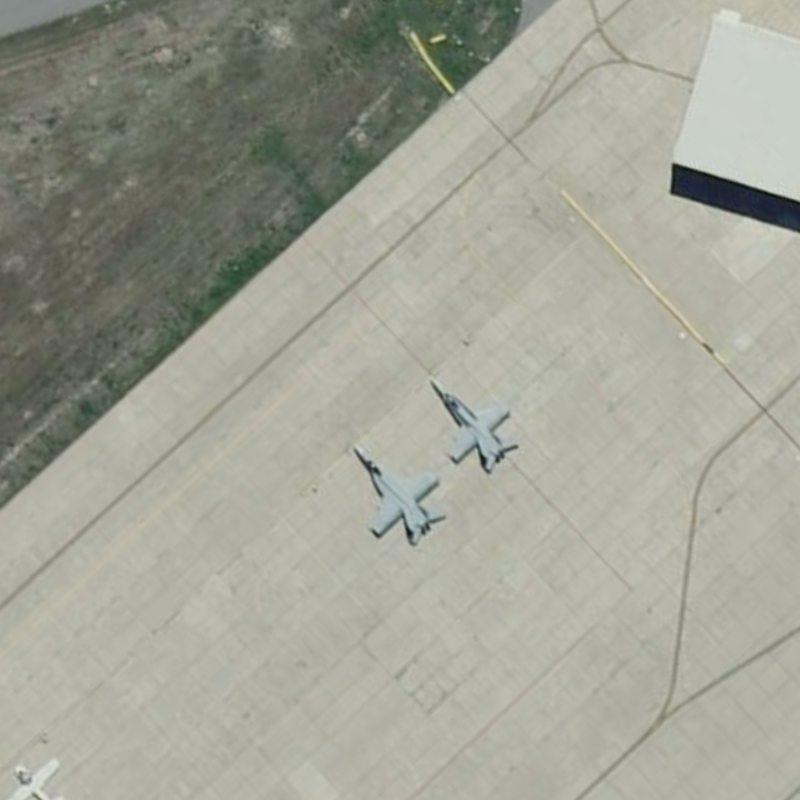A16: (349, 439, 457, 548), (425, 369, 527, 478)
